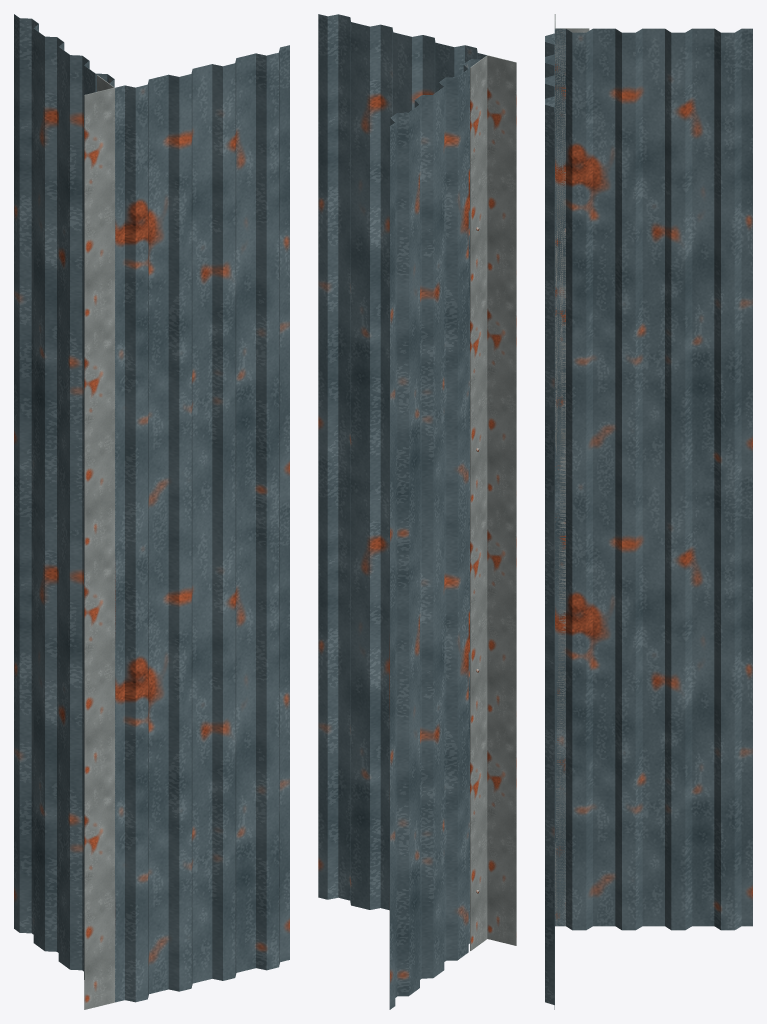
The model's file is CORNER_EXTERNAL_4000.glb.
3 views of the same model, side by side, from view 1: azimuth 30°, elevation 25°; view 2: azimuth 150°, elevation 25°; view 3: azimuth 270°, elevation 25° (orthographic). The views are drawn at different scales.
Parts seen in each view (by area): view 1: CORNER_EXTERNAL_4000__FoldedSheet_XLeg_800, CORNER_EXTERNAL_4000__FoldedSheet_YLeg_800, CORNER_EXTERNAL_4000__CornerFlashing_LProfile; view 2: CORNER_EXTERNAL_4000__FoldedSheet_YLeg_800, CORNER_EXTERNAL_4000__FoldedSheet_XLeg_800, CORNER_EXTERNAL_4000__CornerFlashing_LProfile; view 3: CORNER_EXTERNAL_4000__FoldedSheet_YLeg_800, CORNER_EXTERNAL_4000__FoldedSheet_XLeg_800, CORNER_EXTERNAL_4000__CornerFlashing_LProfile.
Part boxes in pixels (x1,y1,x2,y2): CORNER_EXTERNAL_4000__FoldedSheet_XLeg_800: [115, 45, 289, 1002]; CORNER_EXTERNAL_4000__FoldedSheet_YLeg_800: [14, 14, 115, 1001]; CORNER_EXTERNAL_4000__CornerFlashing_LProfile: [84, 75, 115, 1009]; CORNER_EXTERNAL_4000__FoldedSheet_YLeg_800: [389, 55, 486, 1009]; CORNER_EXTERNAL_4000__FoldedSheet_XLeg_800: [318, 14, 486, 910]; CORNER_EXTERNAL_4000__CornerFlashing_LProfile: [470, 55, 516, 950]; CORNER_EXTERNAL_4000__FoldedSheet_YLeg_800: [555, 28, 752, 930]; CORNER_EXTERNAL_4000__FoldedSheet_XLeg_800: [545, 29, 554, 1009]; CORNER_EXTERNAL_4000__CornerFlashing_LProfile: [554, 14, 589, 926].
Size of the model in its own units: 0.94 by 4 by 0.839.
Materials: 2 (2 with a texture image).
